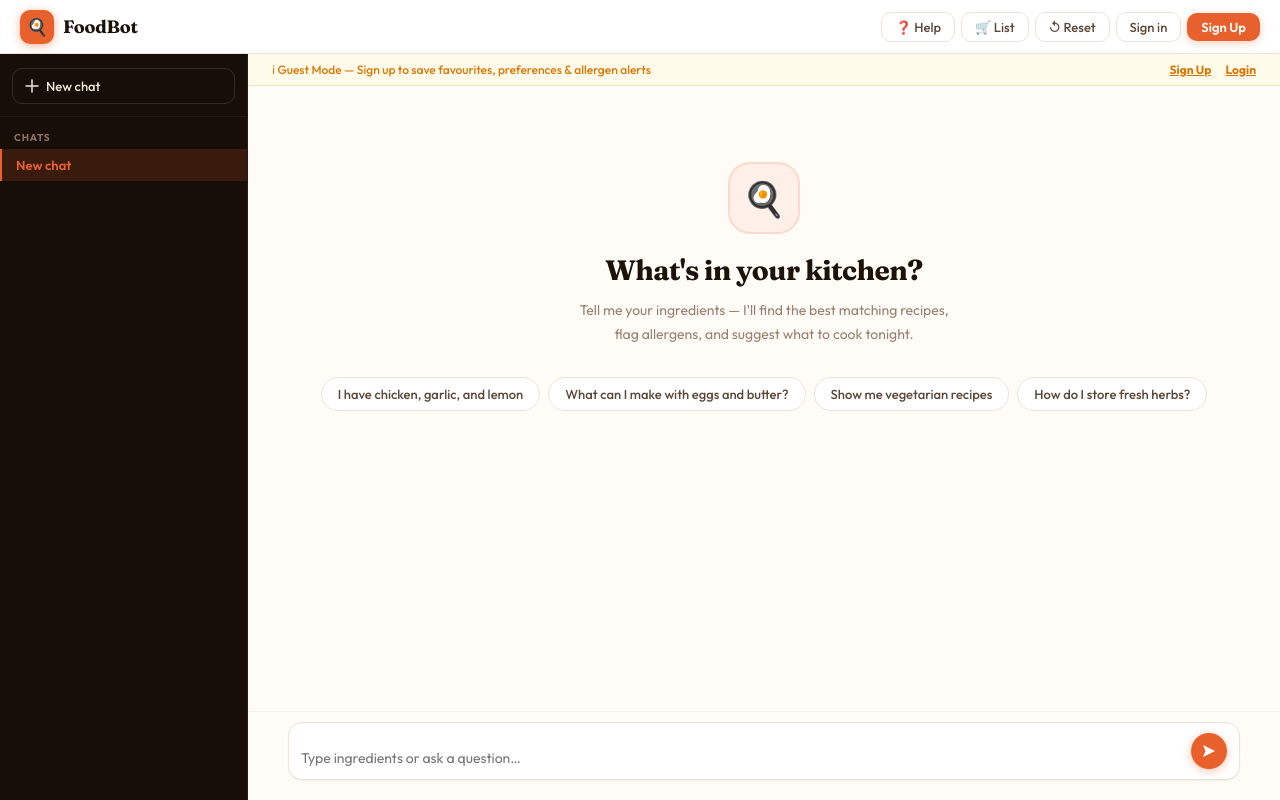
it: Ingredient confirmation flow › runs recommendation and shows recipes when user confirms
Type "I have chicken and garlic" into the text box with placeholder "Type ingredients or ask a question…" at (741, 758), box [301,748,1181,769]
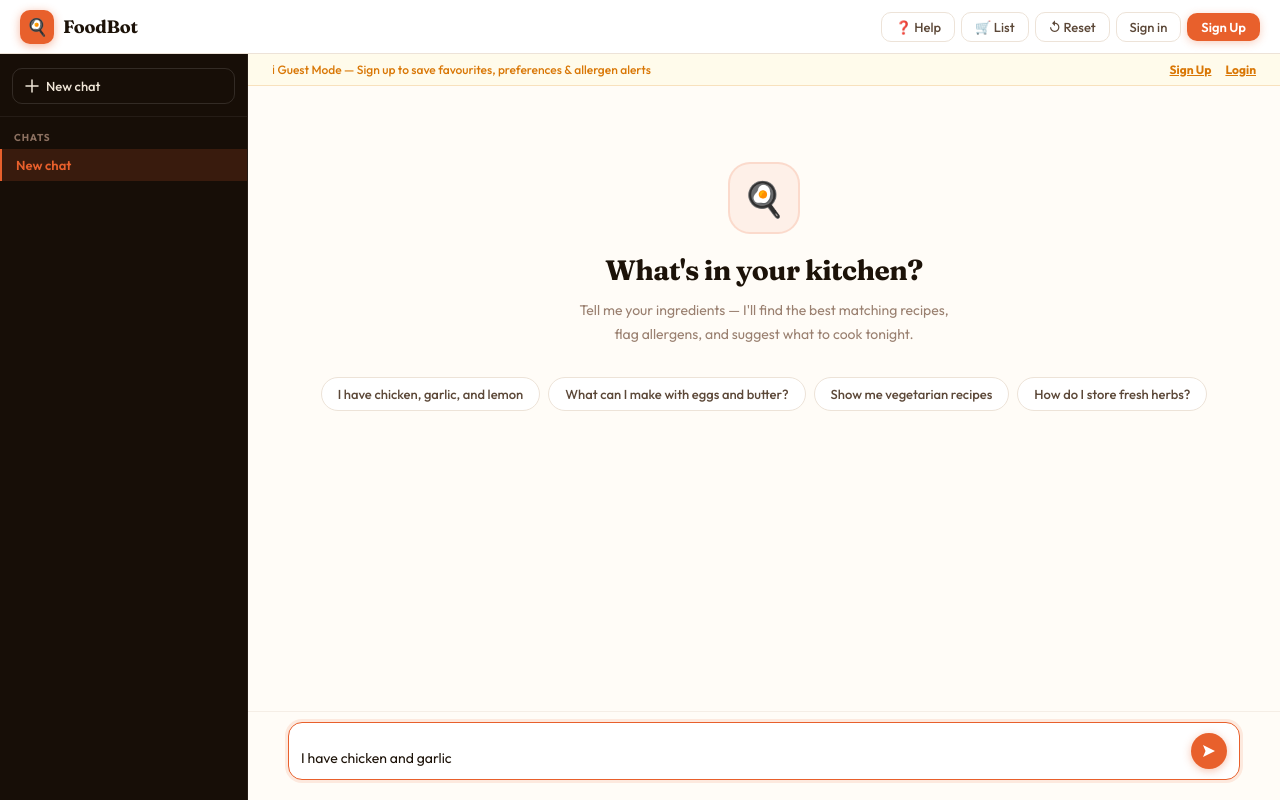
Press Enter
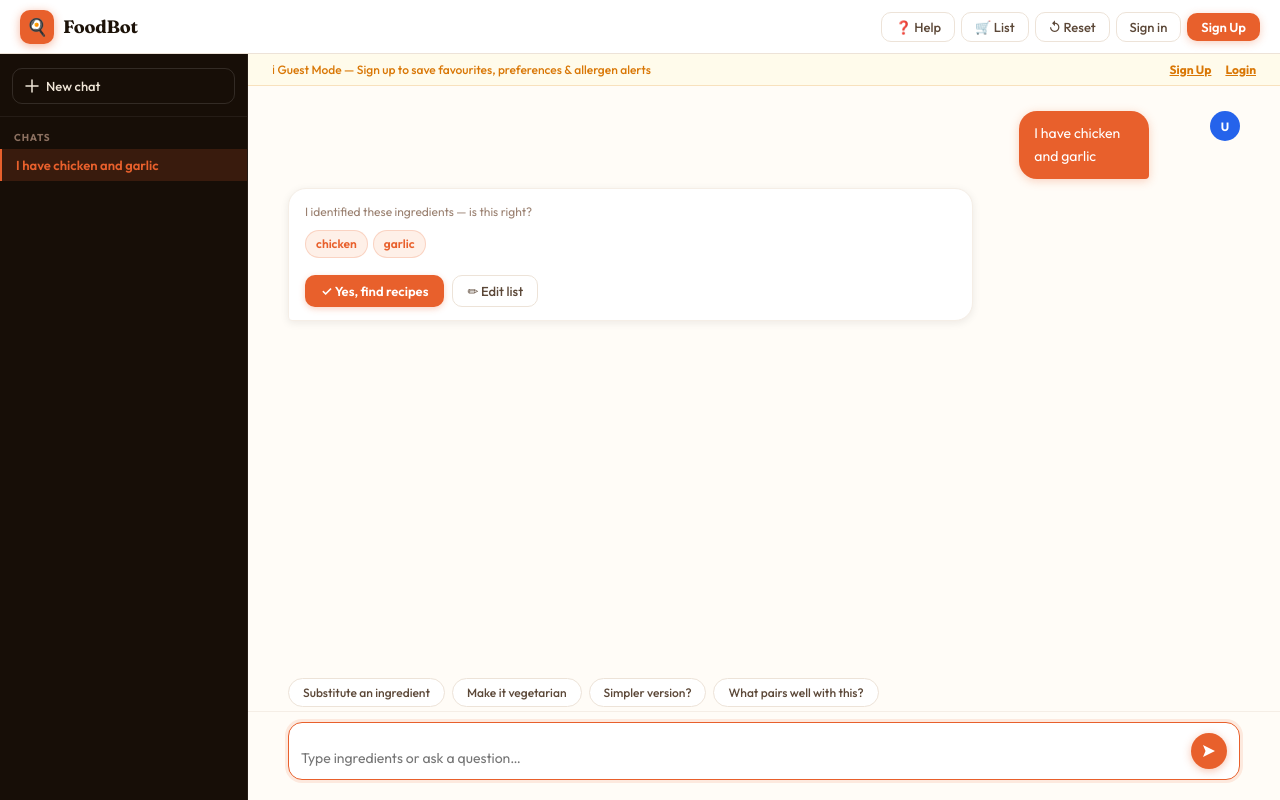
Result: the button "✓ Yes, find recipes" is shown
Click the button "✓ Yes, find recipes" at (375, 291), box [305,275,444,307]
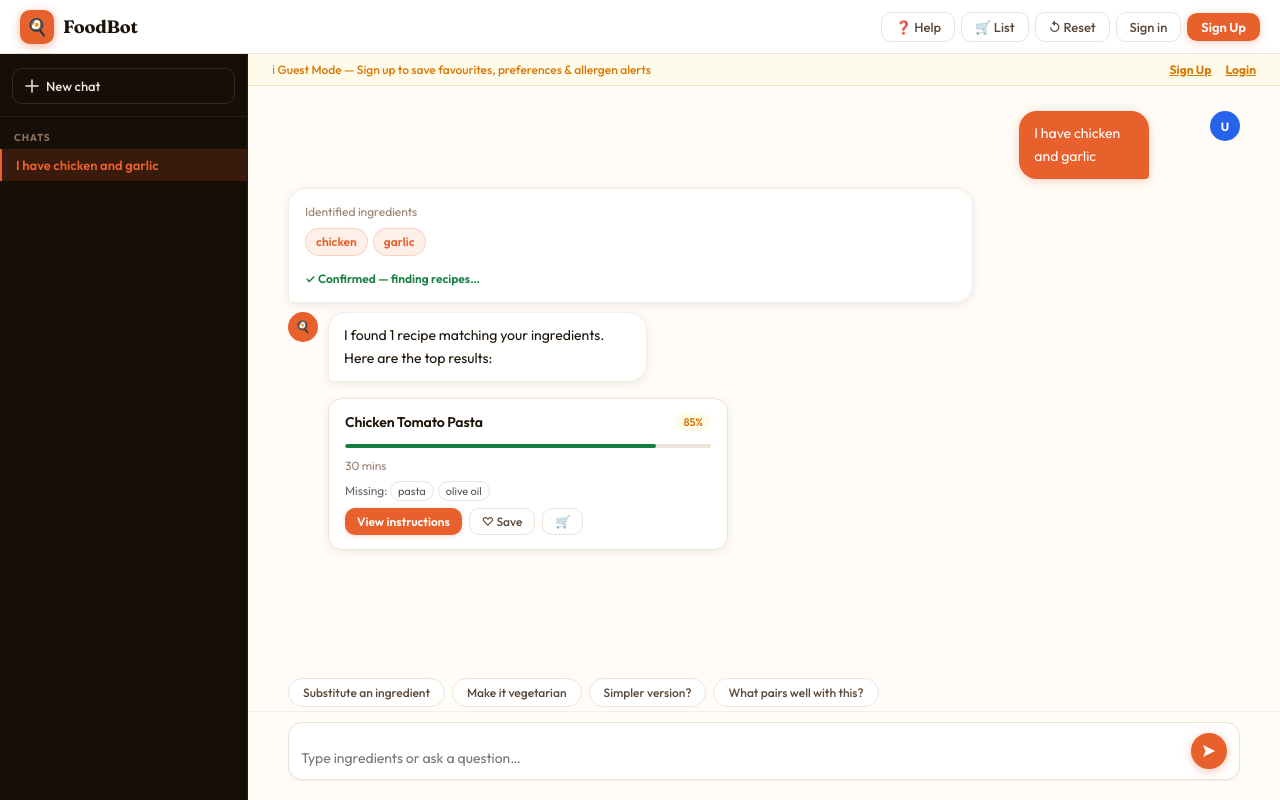
Result: the text "I found 1 recipe" is shown at [344,326,607,367]
Result: the text "Chicken Tomato Pasta" is shown at [345,413,483,431]
